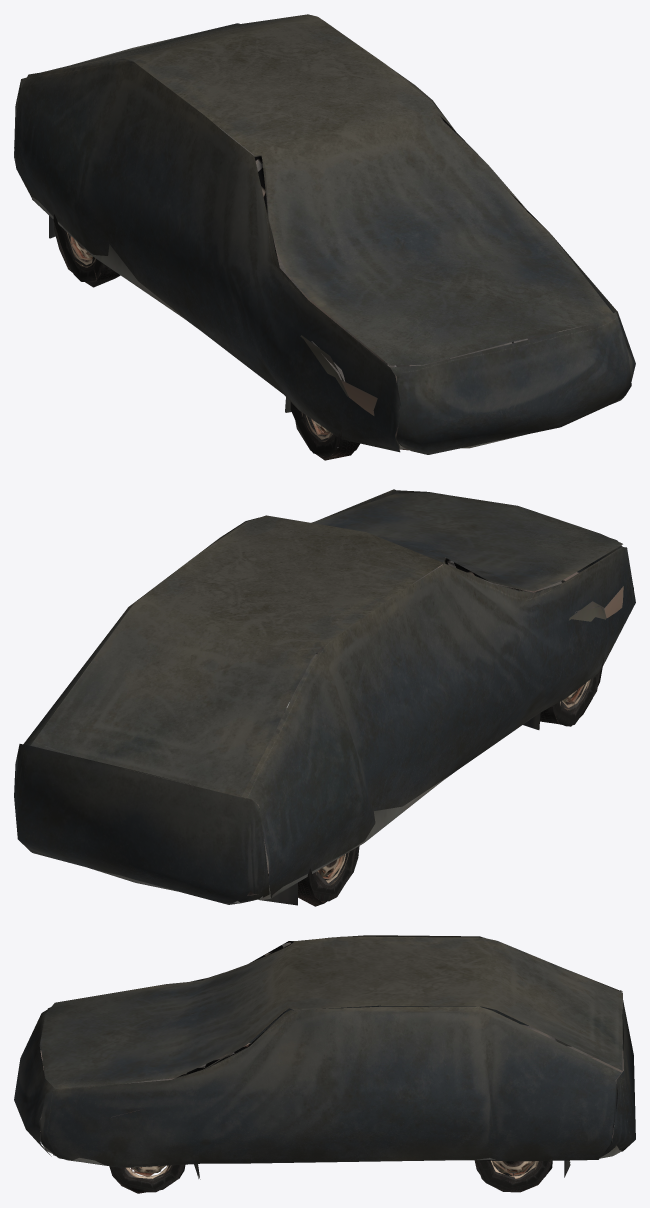
The model's file is covered_car.glb.
3 views of the same model, one above another, from view 1: azimuth 30°, elevation 25°; view 2: azimuth 150°, elevation 25°; view 3: azimuth 270°, elevation 25° (orthographic). The views are drawn at different scales.
Visible parts, largest first — view 1: covered_car_wheel_01; view 2: covered_car_wheel_01; view 3: covered_car_wheel_01.
Boxes of the visible parts, box(x1,y1,x2,y2) form: covered_car_wheel_01: box(14, 14, 635, 460); covered_car_wheel_01: box(14, 489, 635, 906); covered_car_wheel_01: box(14, 935, 635, 1193).
Bounding box in the file's own units: 1.8 × 1.39 × 4.38.
2 materials, 2 textured.
